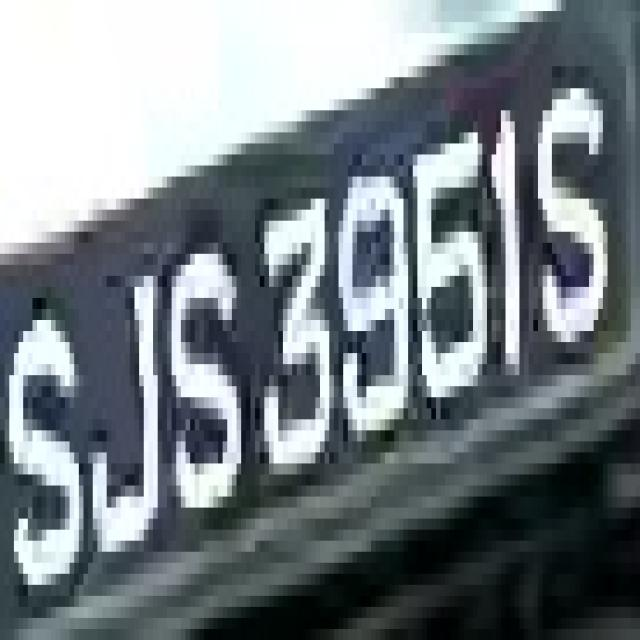1: (468, 78, 542, 420)
3: (255, 188, 348, 508)
5: (413, 121, 487, 442)
9: (329, 154, 413, 452)
J: (78, 232, 172, 574)
S: (0, 265, 88, 640), (524, 55, 622, 364), (153, 232, 250, 540)
